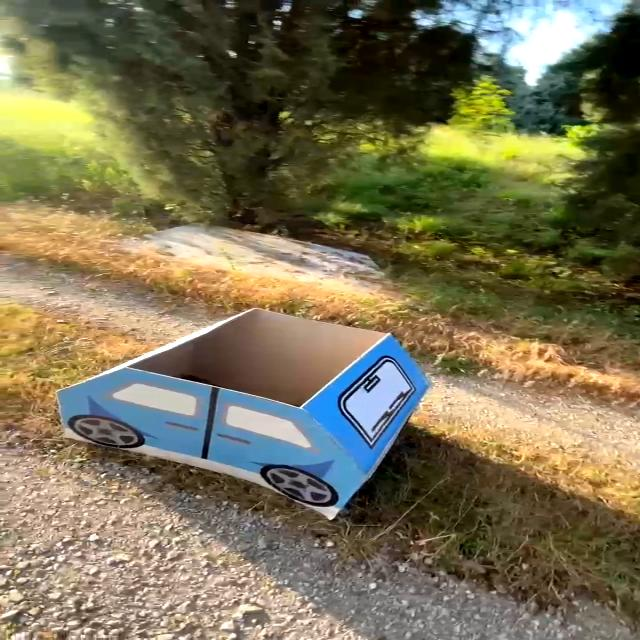blue_car: (13, 269, 441, 529)
